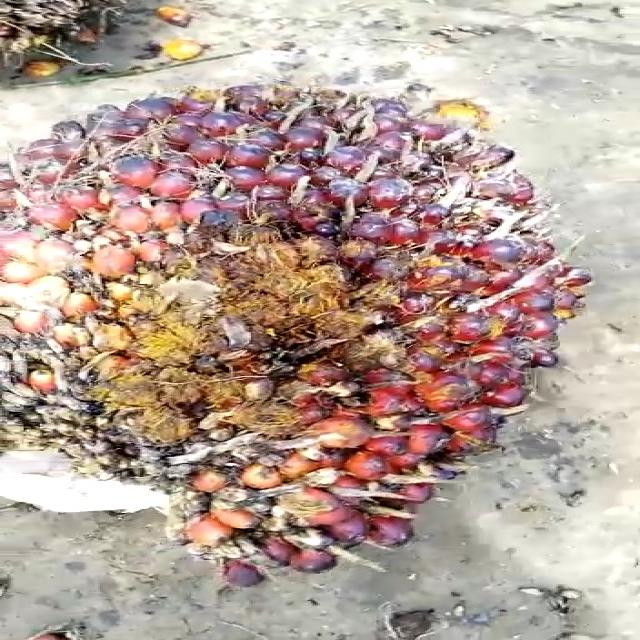palm oil: (0, 65, 640, 579)
